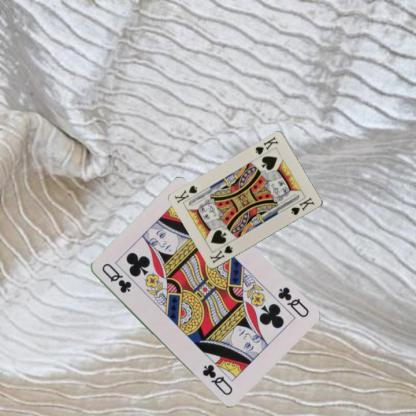Ks: (207, 243, 234, 265), (252, 135, 280, 156)
Qc: (275, 284, 310, 319), (99, 260, 133, 294)
